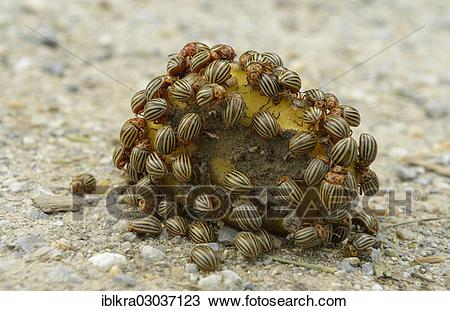hrosc: (327, 135, 360, 169), (70, 172, 106, 199), (176, 111, 203, 147), (191, 243, 223, 273), (231, 194, 261, 226), (118, 115, 146, 149), (343, 232, 379, 258), (140, 71, 179, 95), (251, 107, 280, 139), (252, 50, 288, 73), (127, 212, 161, 236), (153, 124, 179, 155), (180, 36, 211, 61), (232, 229, 260, 256), (334, 99, 361, 127), (292, 225, 323, 248), (192, 82, 226, 100), (289, 130, 313, 153), (304, 86, 330, 107), (143, 97, 168, 118)
